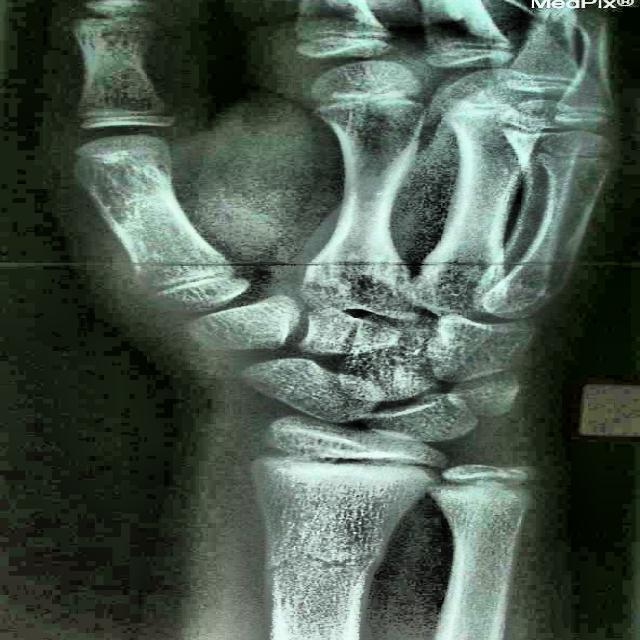line: (262, 549, 384, 576)
